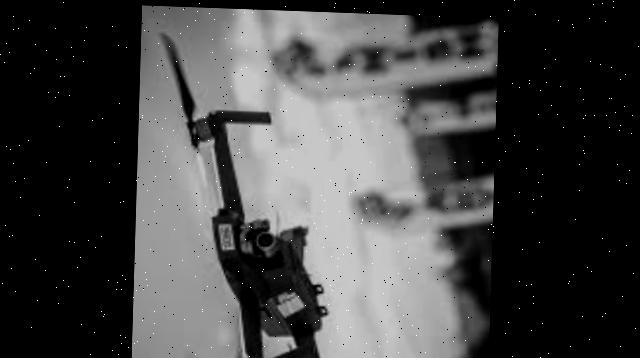drone: (148, 34, 372, 358)
